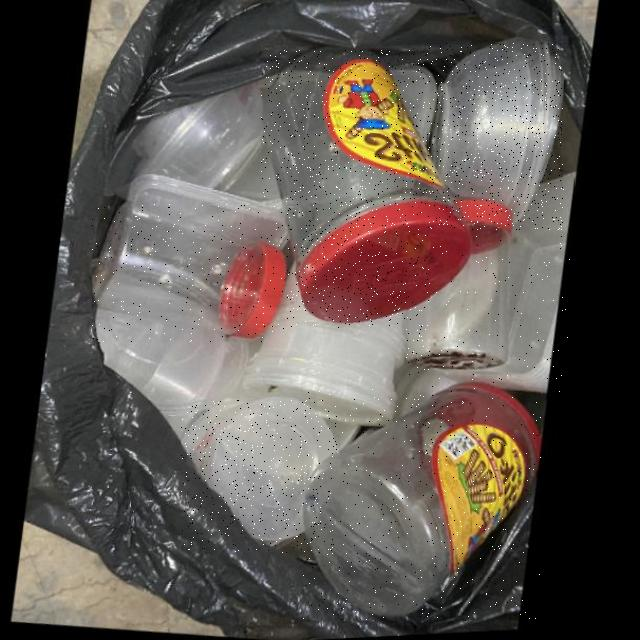plastic: (262, 50, 472, 328), (304, 388, 541, 620), (431, 178, 575, 400), (93, 204, 287, 341), (428, 43, 563, 230), (181, 400, 337, 553), (406, 205, 511, 375)
